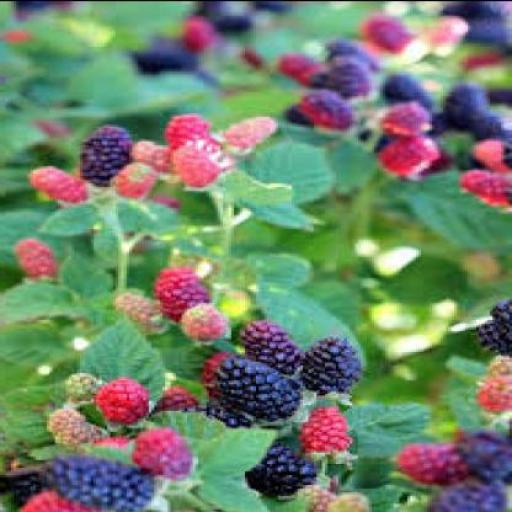biodegradable: (223, 352, 305, 416), (61, 454, 157, 506), (240, 442, 316, 495), (297, 336, 361, 394), (135, 423, 199, 478), (82, 120, 132, 184), (399, 438, 471, 480), (465, 427, 511, 487), (448, 1, 511, 43), (162, 264, 212, 316), (247, 313, 292, 370), (433, 478, 509, 510), (137, 34, 201, 72), (311, 406, 355, 459), (368, 15, 426, 55), (380, 128, 434, 170), (314, 53, 363, 98), (308, 91, 366, 129), (220, 113, 278, 150), (182, 138, 228, 184), (107, 379, 151, 425), (465, 170, 511, 213), (52, 406, 99, 448), (3, 461, 52, 499), (33, 163, 85, 198), (22, 491, 110, 511), (448, 84, 487, 129), (380, 100, 430, 135), (19, 235, 59, 277), (184, 302, 228, 340), (324, 36, 364, 76), (390, 74, 432, 108), (432, 14, 468, 52), (115, 161, 157, 193), (124, 292, 159, 330), (171, 110, 206, 148), (472, 135, 510, 170), (207, 406, 256, 432), (479, 318, 511, 353), (16, 1, 74, 20), (322, 489, 372, 510), (188, 14, 214, 52), (141, 137, 170, 171), (470, 43, 511, 67), (217, 11, 262, 32), (482, 382, 511, 411), (479, 114, 511, 140), (165, 385, 198, 410), (432, 142, 457, 171), (292, 100, 316, 128), (200, 1, 232, 20), (492, 354, 511, 383), (492, 299, 511, 327), (484, 84, 510, 104), (266, 1, 298, 11)
